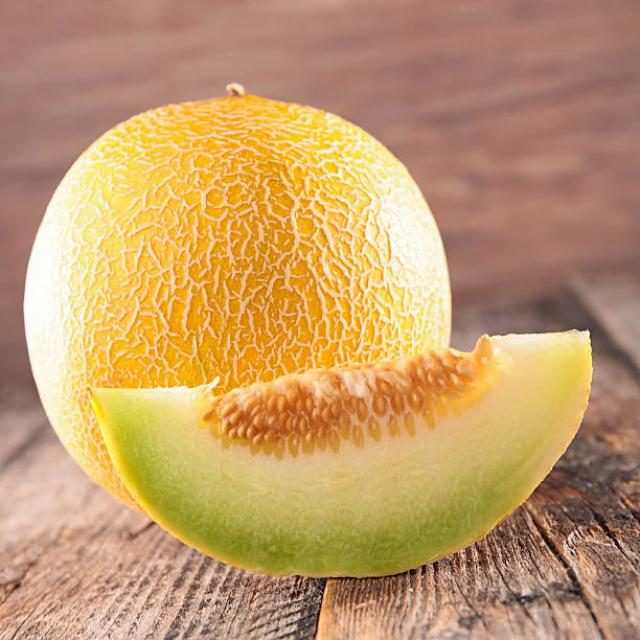Melon: (84, 348, 593, 583), (17, 89, 454, 349)
